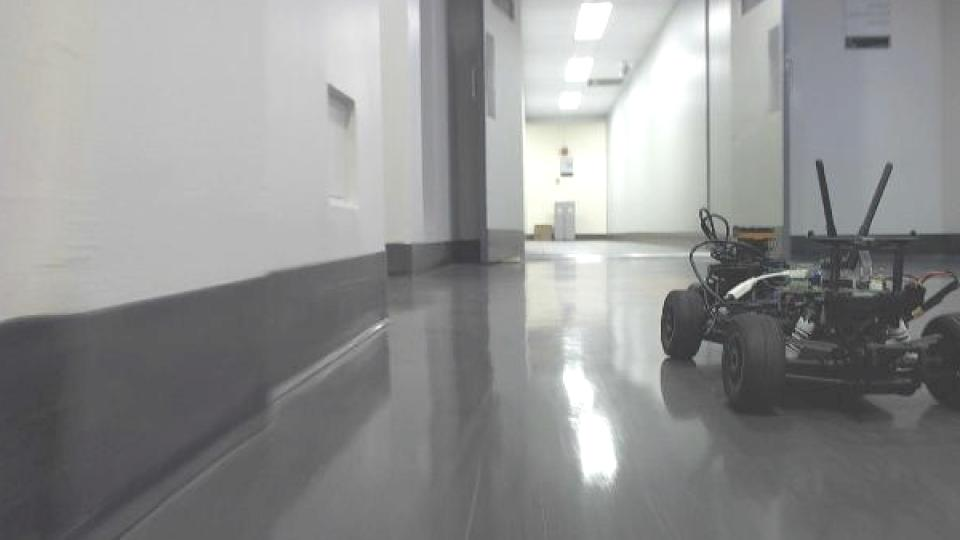car: (656, 156, 960, 416)
